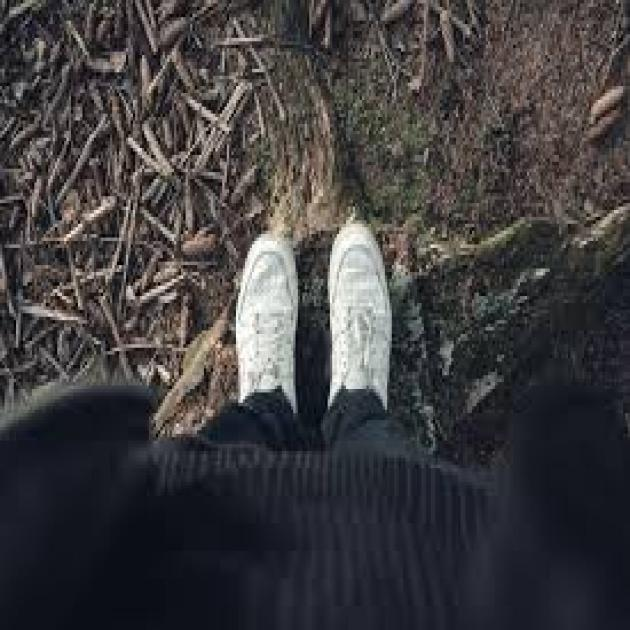shoes: (213, 199, 417, 452)
